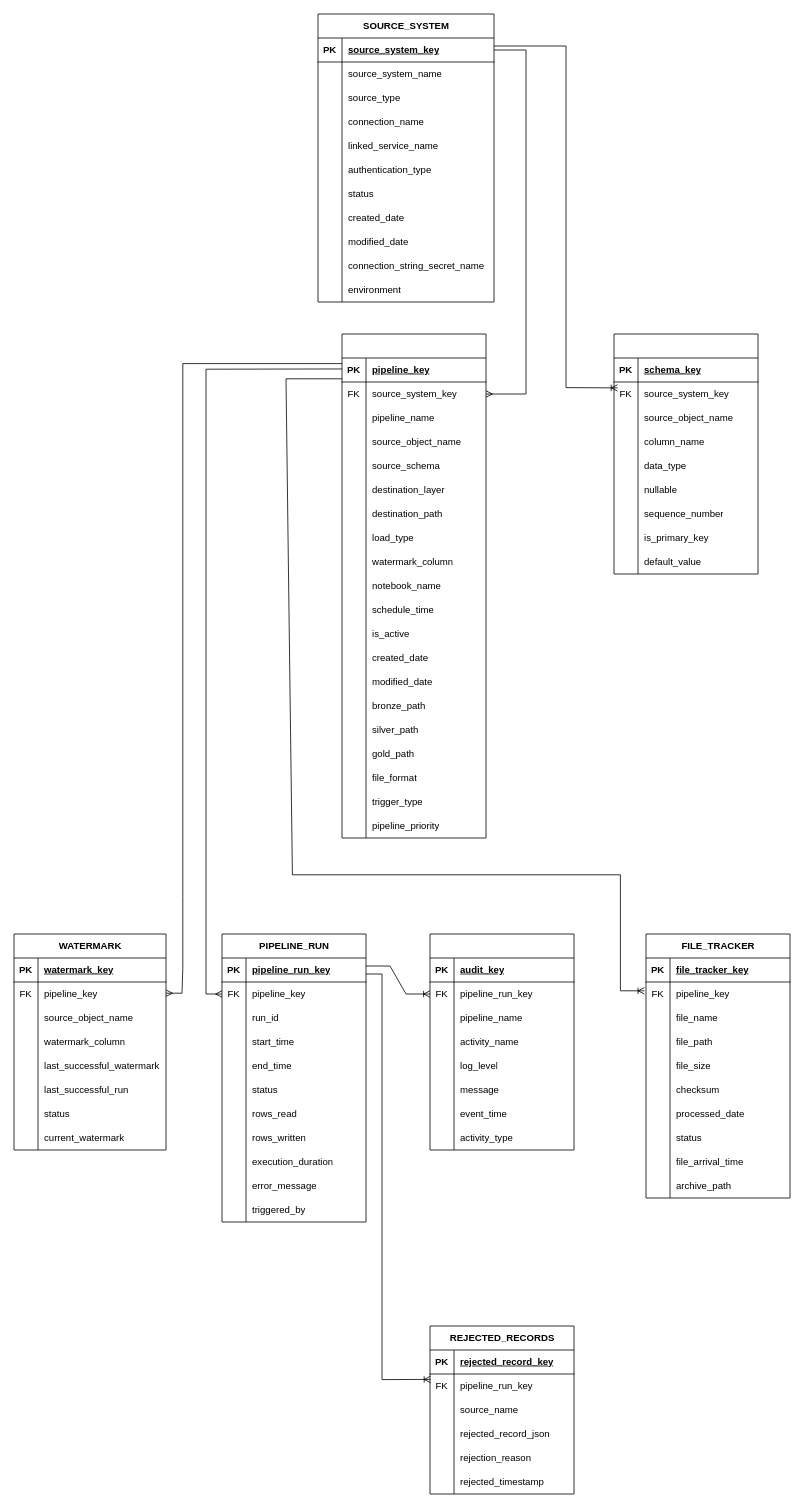
The diagram is 804 pixels wide and 1508 high, and some of its shapes have lost their labels. Each missing label, with the box of its shape:
AUDIT_LOG: (429, 933, 574, 1150)
PIPELINE_CONFIG: (341, 333, 486, 838)
SCHEMA_REGISTRY: (613, 333, 758, 574)
